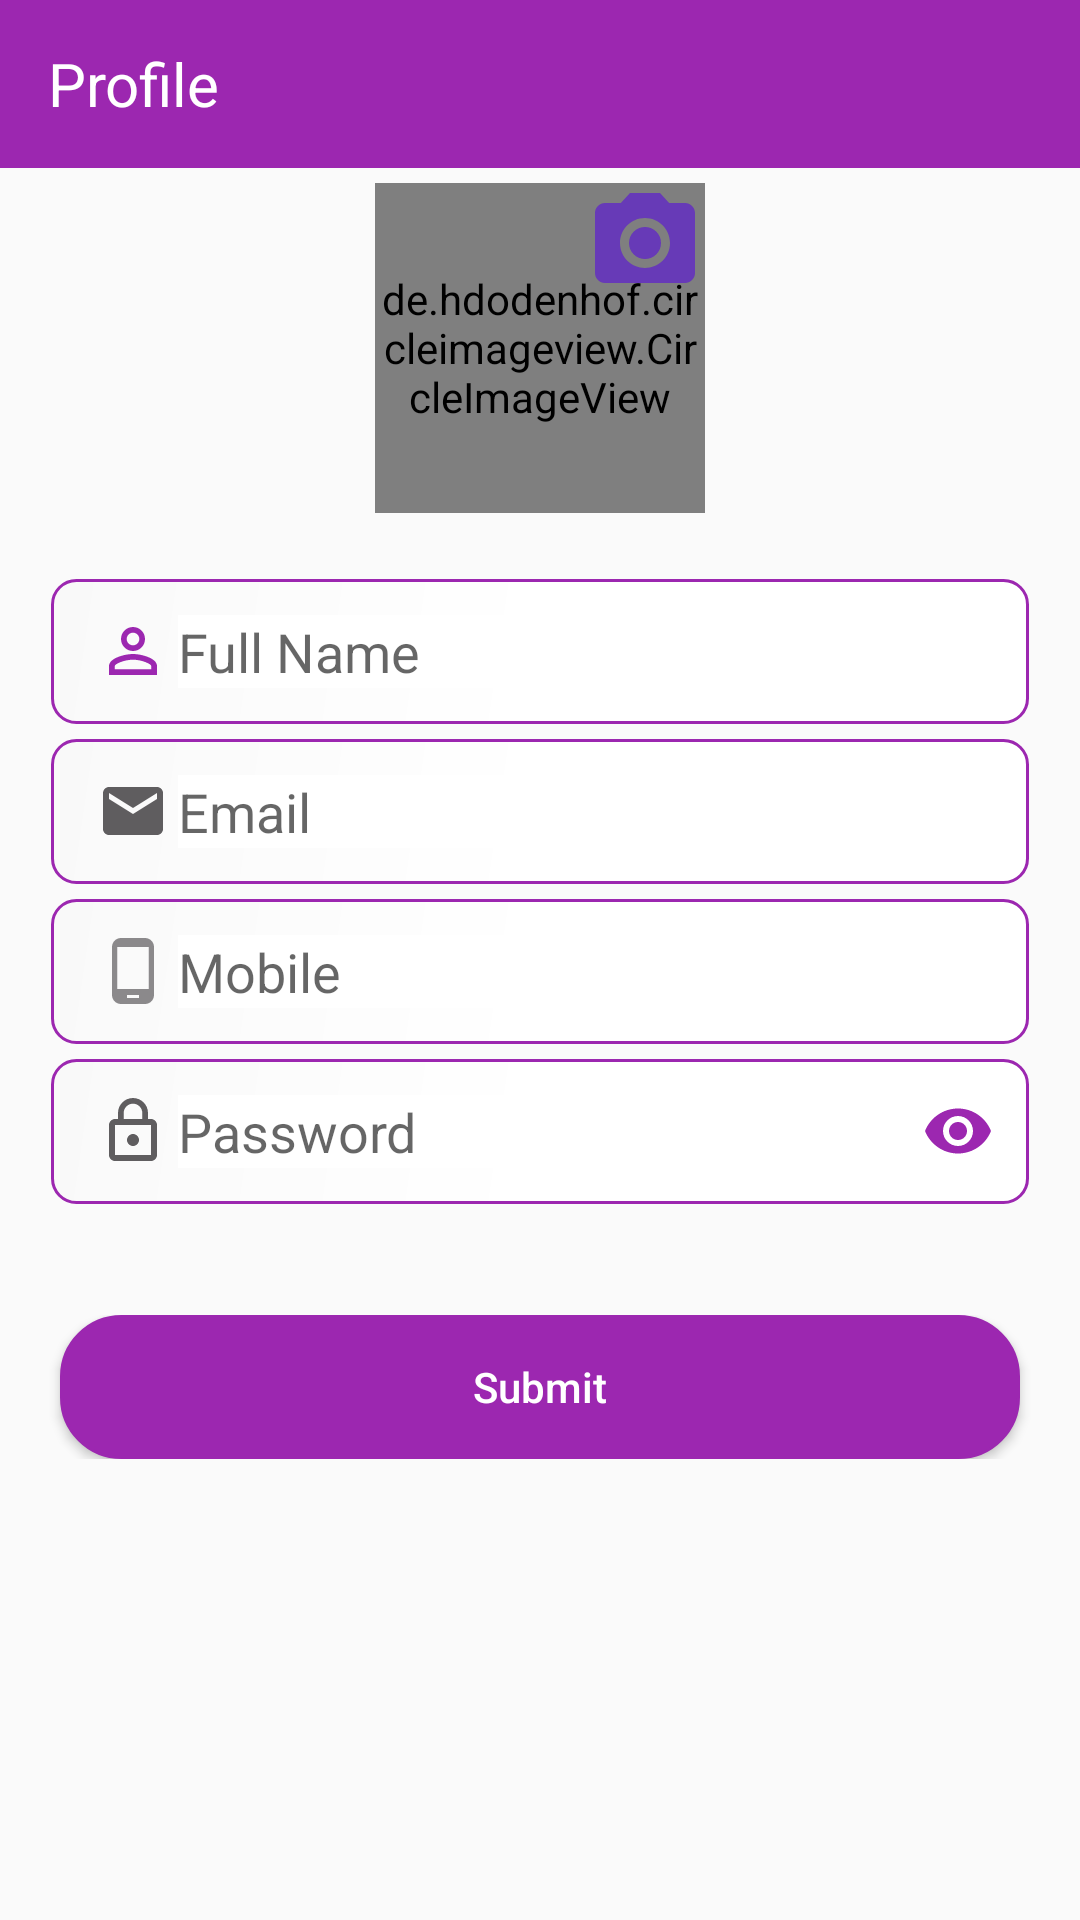

Screen size 1080px×1920px. Icon name, then its box in pixels as (x1, y1, x2, y2):
person: (109, 627, 157, 675)
